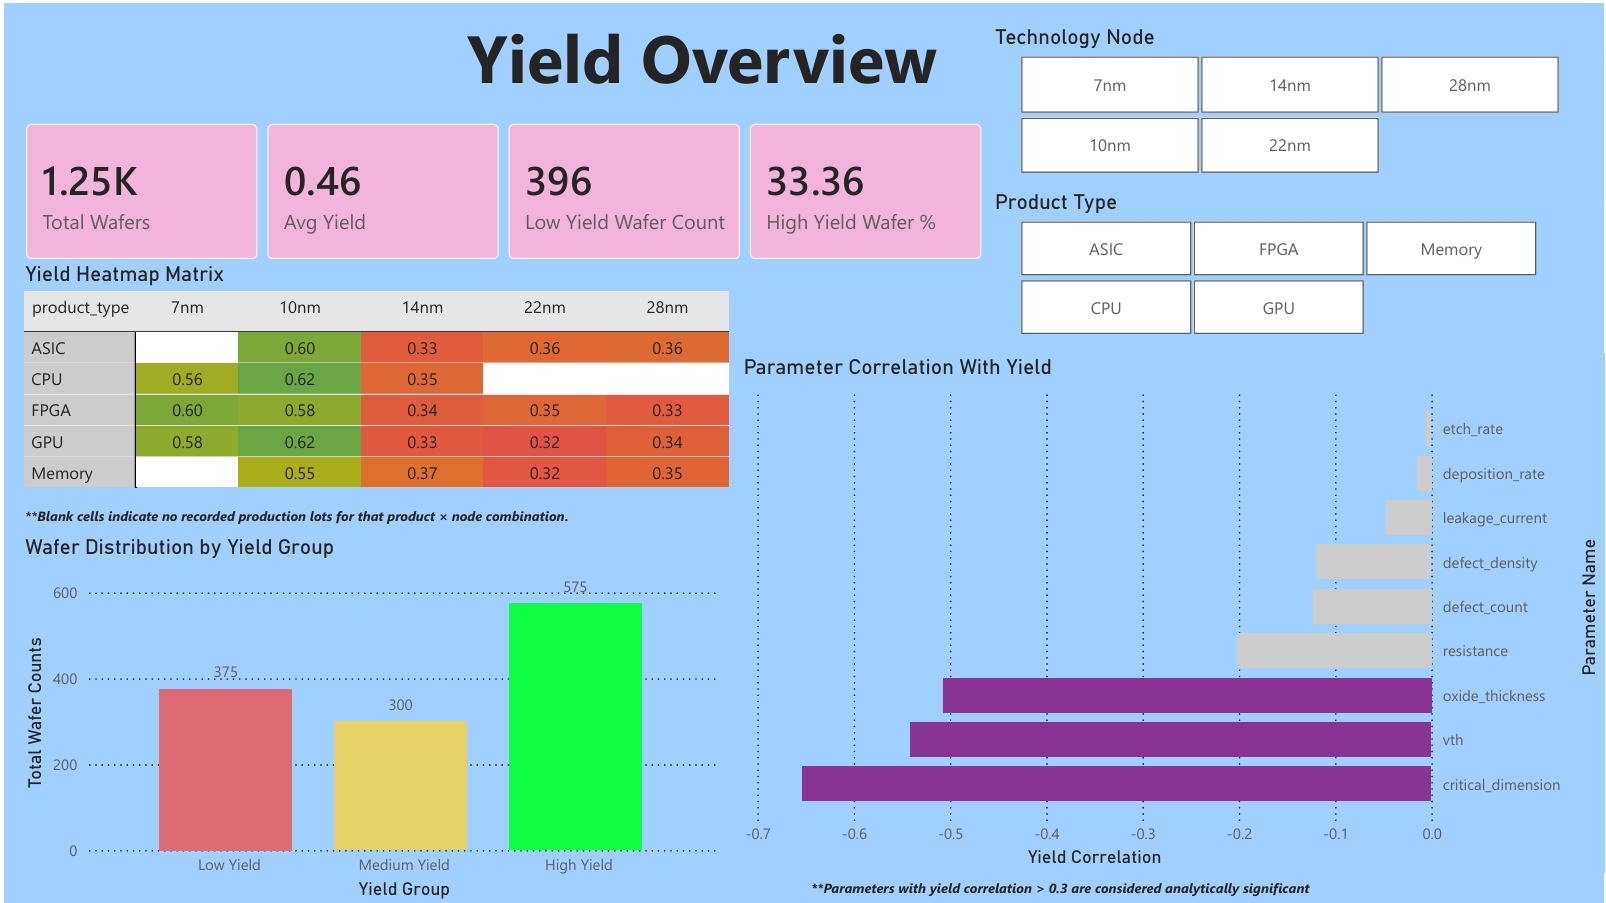

The page's visual inventory and layout, read from the dashboard file:
{"tool":"powerbi","page":{"name":"Yield","canvas":[1280,720],"ordinal":0},"visuals":[{"type":"cardVisual","fields":{"Data":["Measure.Total Wafers","Measure.Avg Yield","Measure.Low Yield Wafer Count","Measure.High Yield Wafer %"]},"box":[0,79.2,800.3,142.8],"z":0},{"type":"slicer","title":"Technology Node","fields":{"Values":["semiconductor_yield_forecasting_data.technology_node"]},"box":[787.2,16.3,480.2,125.6],"z":1000},{"type":"slicer","title":"Product Type","fields":{"Values":["semiconductor_yield_forecasting_data.product_type"]},"box":[787.2,147.7,461.6,123.3],"z":2000},{"type":"pivotTable","title":"Yield Heatmap Matrix","fields":{"Values":["Avg(semiconductor_yield_forecasting_data.yield)"],"Rows":["low_yield_lot_investigation.product_type"],"Columns":["low_yield_lot_investigation.technology_node"]},"box":[10.8,206.4,575.9,206.4],"z":3000},{"type":"columnChart","title":"Wafer Distribution by Yield Group","fields":{"Category":["yield_summary.yield_group"],"Y":["Sum(yield_summary.wafer_count)"]},"box":[10.5,423.7,565.7,297.5],"z":4000},{"type":"barChart","title":"Parameter Correlation With Yield","fields":{"Y":["Avg(corr_with_yield.corr_with_yield)"],"Category":["corr_with_yield.parameter_name"]},"box":[585.6,279.7,693.9,416.4],"z":5000},{"type":"textbox","box":[341.7,0,445.8,88.3],"z":6000},{"type":"textbox","box":[10.5,395.3,464.7,28.4],"z":7000},{"type":"textbox","box":[639.5,691.9,534.9,27.9],"z":8000}]}

Visuals, with their boxes in screenshot pixels (x1, y1, x2, y2), scaled from the page's 1280x720 canvas onto the 1606x903 screenshot:
cardVisual - Measure.Total Wafers x Measure.Avg Yield: {"left": 0, "top": 99, "right": 1004, "bottom": 278}
"Technology Node" slicer: {"left": 988, "top": 20, "right": 1590, "bottom": 178}
"Product Type" slicer: {"left": 988, "top": 185, "right": 1567, "bottom": 340}
"Yield Heatmap Matrix" pivotTable: {"left": 14, "top": 259, "right": 736, "bottom": 518}
"Wafer Distribution by Yield Group" columnChart: {"left": 13, "top": 531, "right": 723, "bottom": 902}
"Parameter Correlation With Yield" barChart: {"left": 735, "top": 351, "right": 1605, "bottom": 873}
textbox: {"left": 429, "top": 0, "right": 988, "bottom": 111}
textbox: {"left": 13, "top": 496, "right": 596, "bottom": 531}
textbox: {"left": 802, "top": 868, "right": 1474, "bottom": 902}
